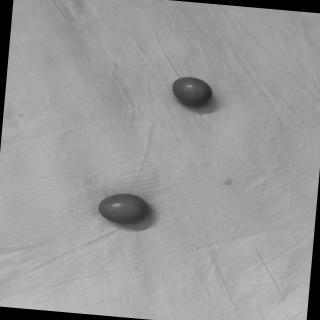Telur: (95, 190, 153, 229), (171, 74, 218, 111)
